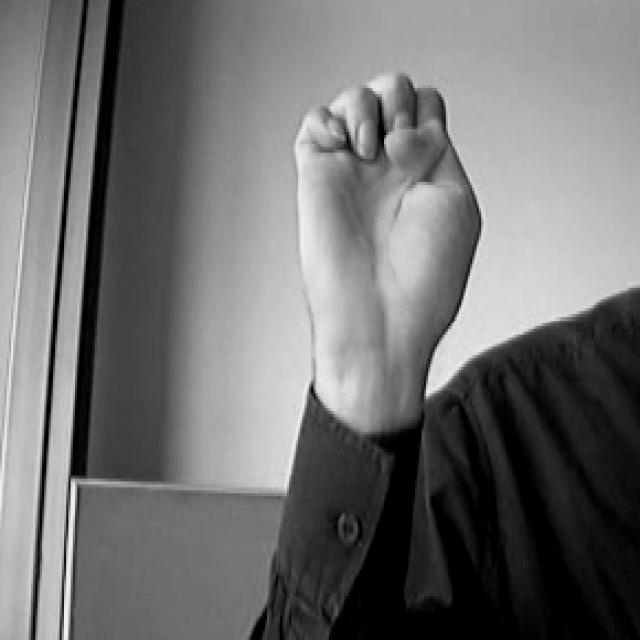E: (288, 53, 489, 368)
